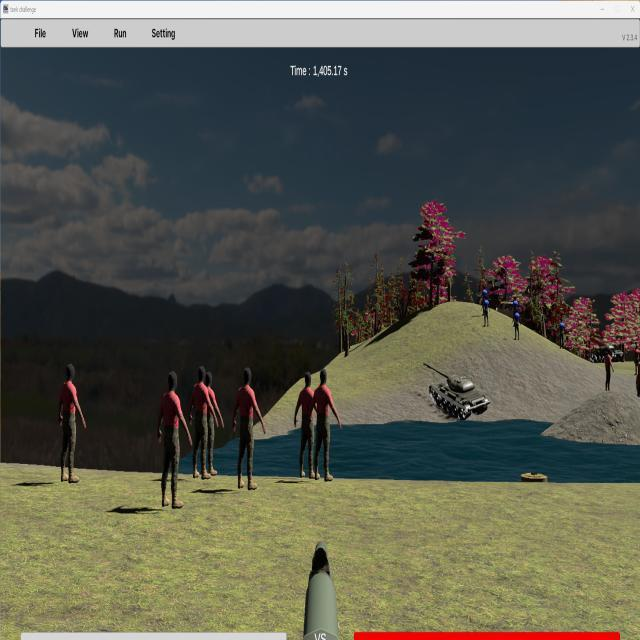Human: (159, 369, 192, 511), (232, 367, 266, 491), (310, 368, 341, 481), (59, 363, 86, 483), (190, 365, 217, 480), (294, 370, 319, 475)
Tank: (422, 362, 490, 422)
